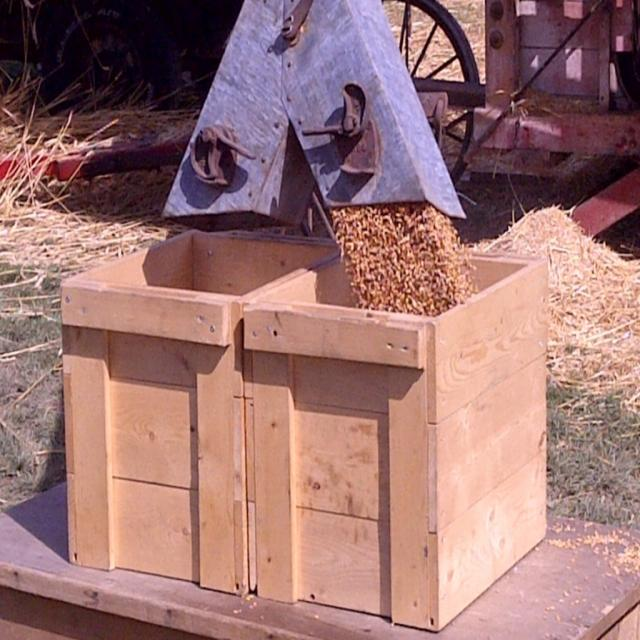Box: (241, 252, 548, 636), (59, 226, 342, 594)
